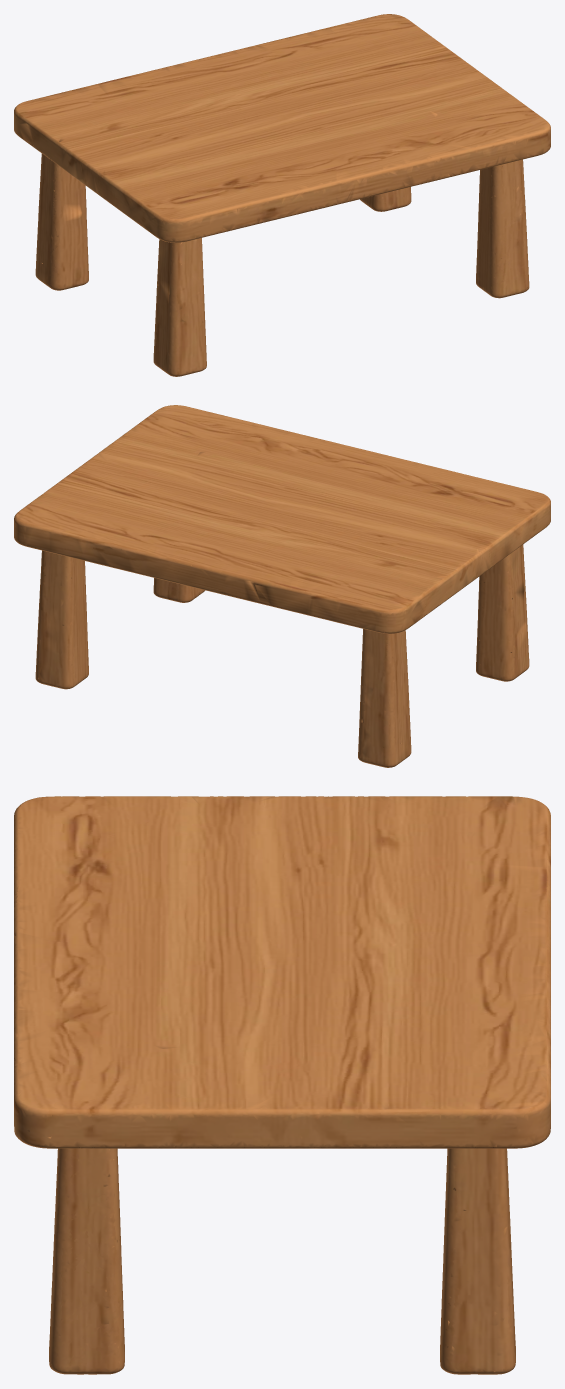
File: coffee_table.glb
3 renders of one model, top to bottom at view 1: azimuth 30°, elevation 25°; view 2: azimuth 150°, elevation 25°; view 3: azimuth 270°, elevation 25°, orthographic. The views are drawn at different scales.
Parts seen in each view (by area): view 1: geometry_0; view 2: geometry_0; view 3: geometry_0.
Boxes of the visible parts, left/top/right/bottom form: geometry_0: left=14, top=14, right=550, bottom=376; geometry_0: left=14, top=405, right=550, bottom=767; geometry_0: left=14, top=796, right=550, bottom=1374.
Bounding box in the file's own units: 1.2 × 0.4926 × 0.861.
1 material, 1 textured.
